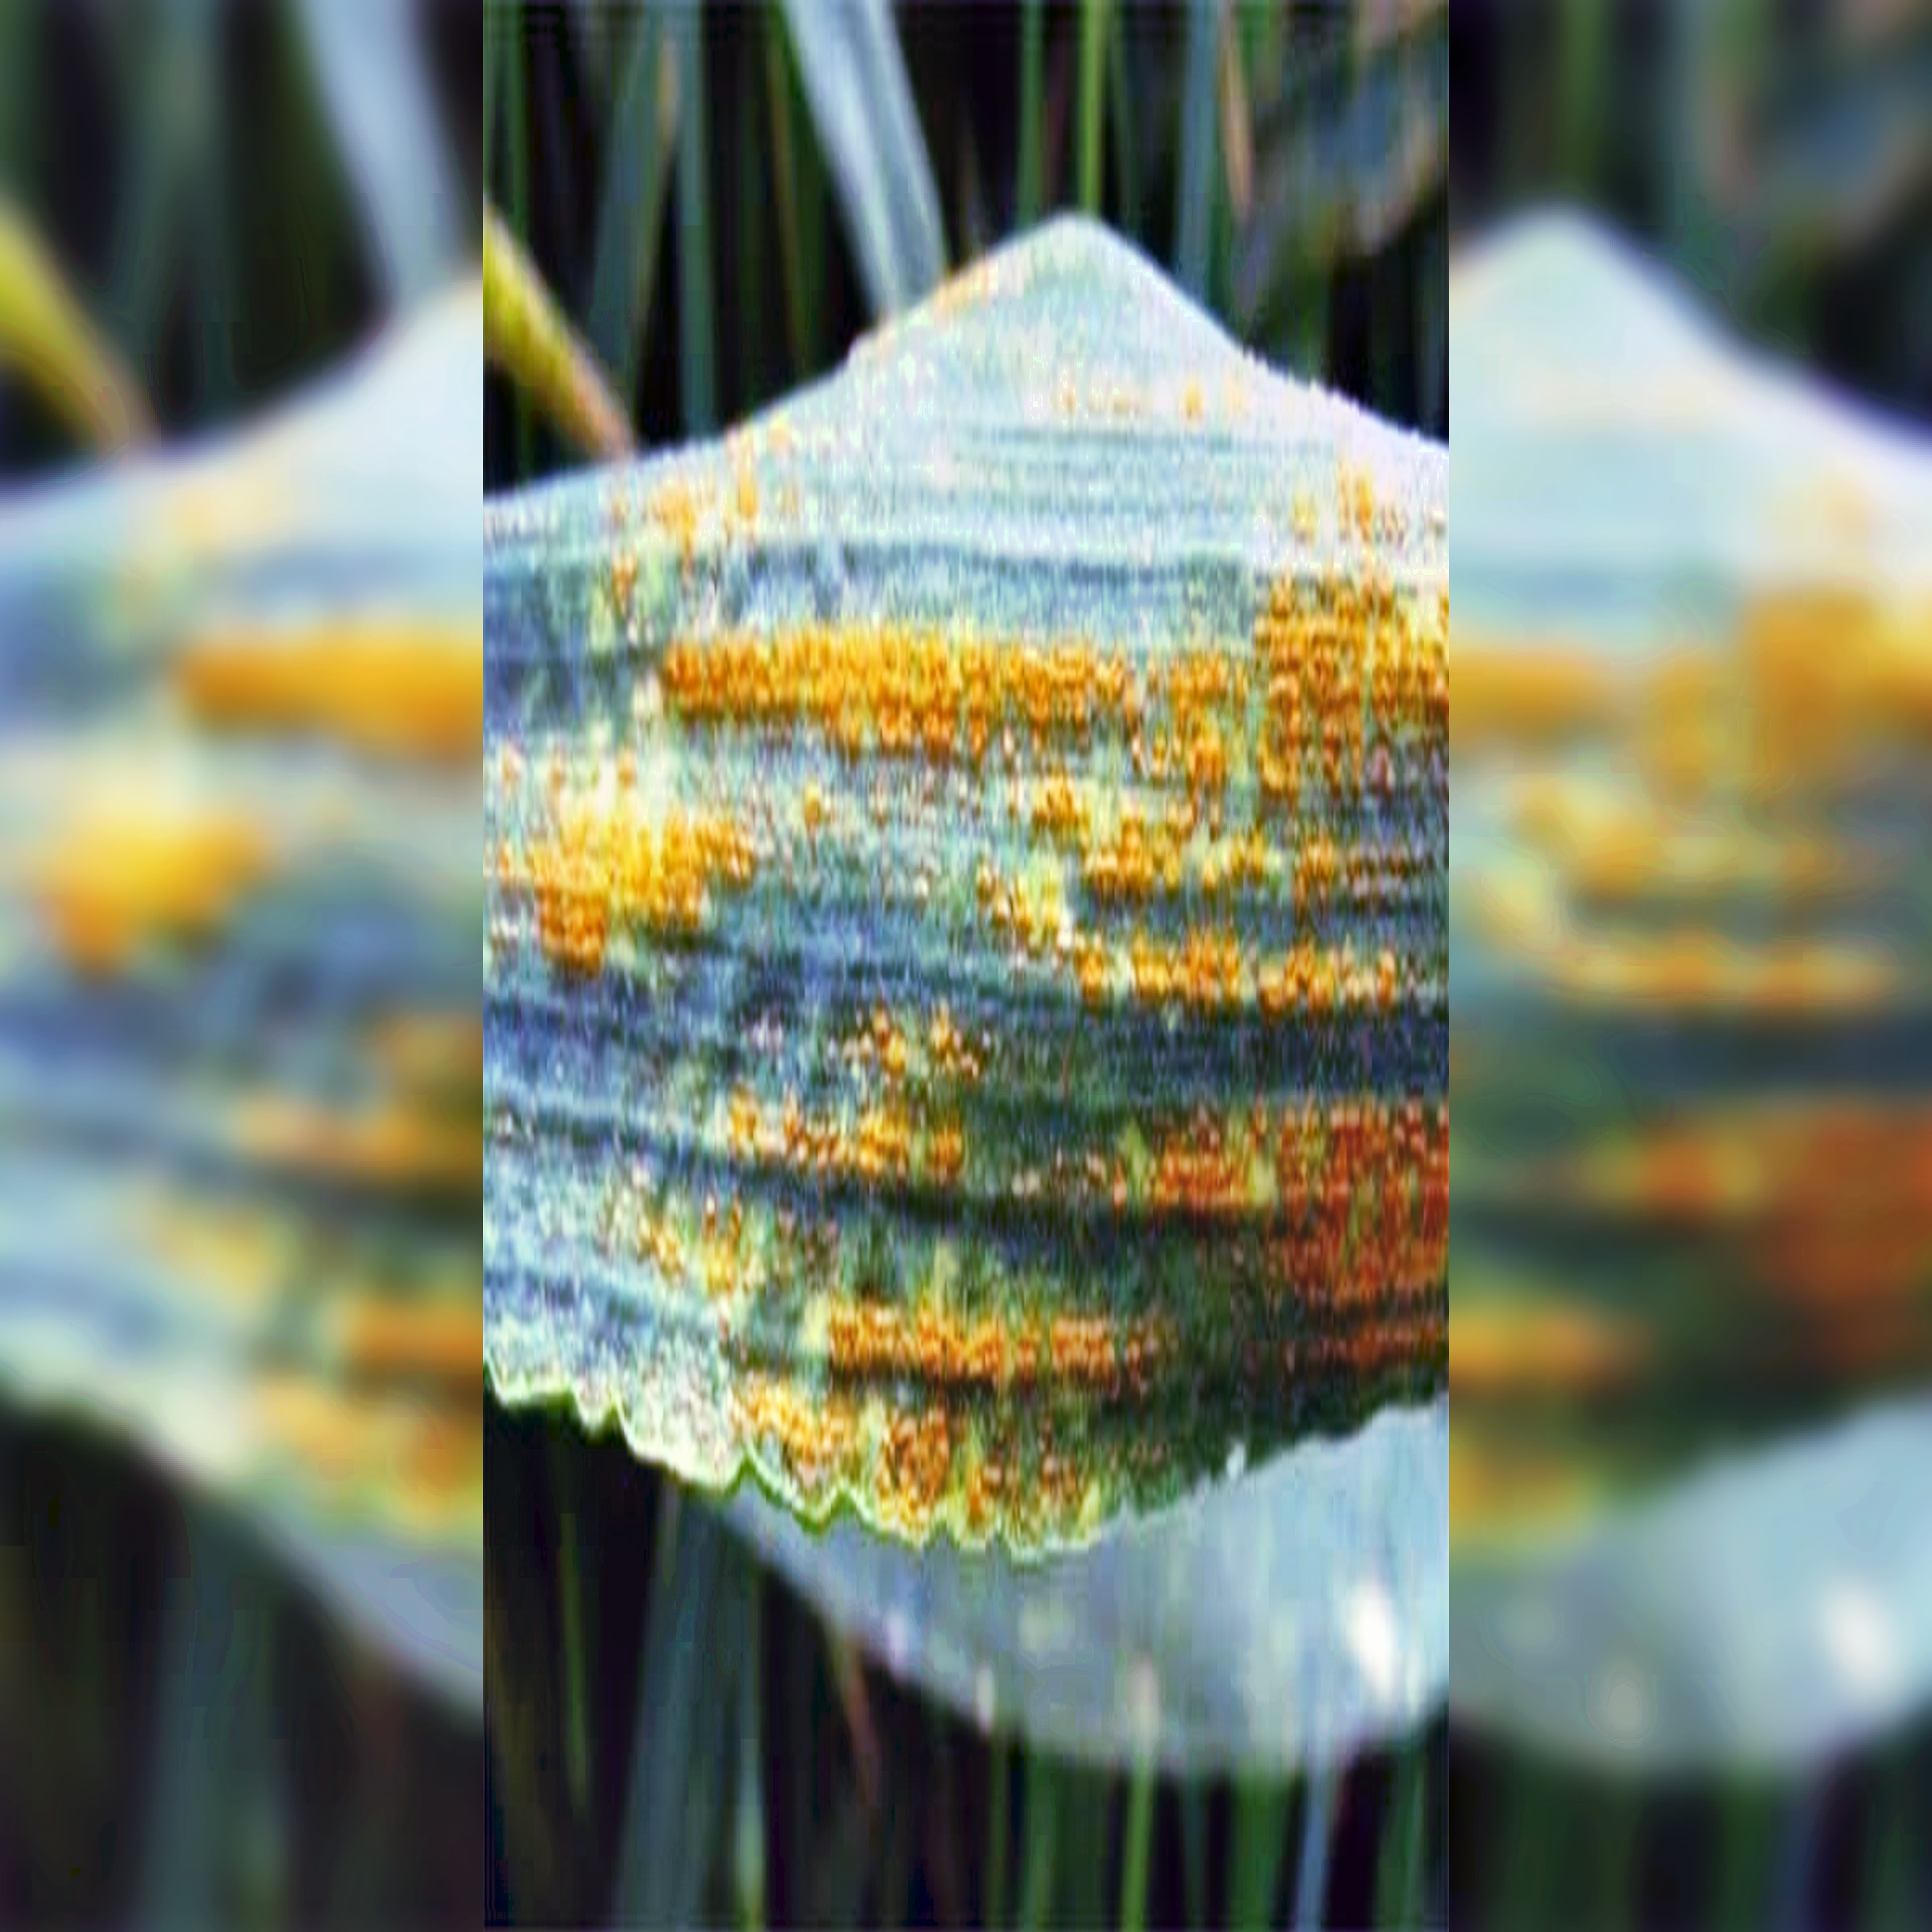Leaf Rust: (495, 435, 1456, 1488)
